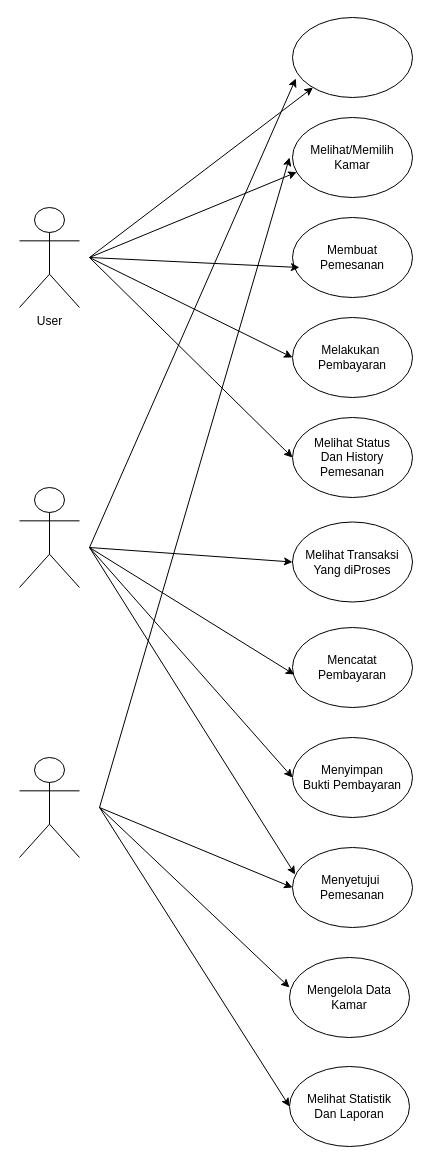
The diagram is 430 pixels wide and 1164 high, and some of its shapes have lost their labels. The shapes that lost their labels are listed below. From the top down, each one's box as (x1, y1, x2, y2) in pixels, then its label:
(292, 16, 412, 98): Login
(18, 486, 80, 588): Resepsionis
(18, 756, 80, 858): Admin
